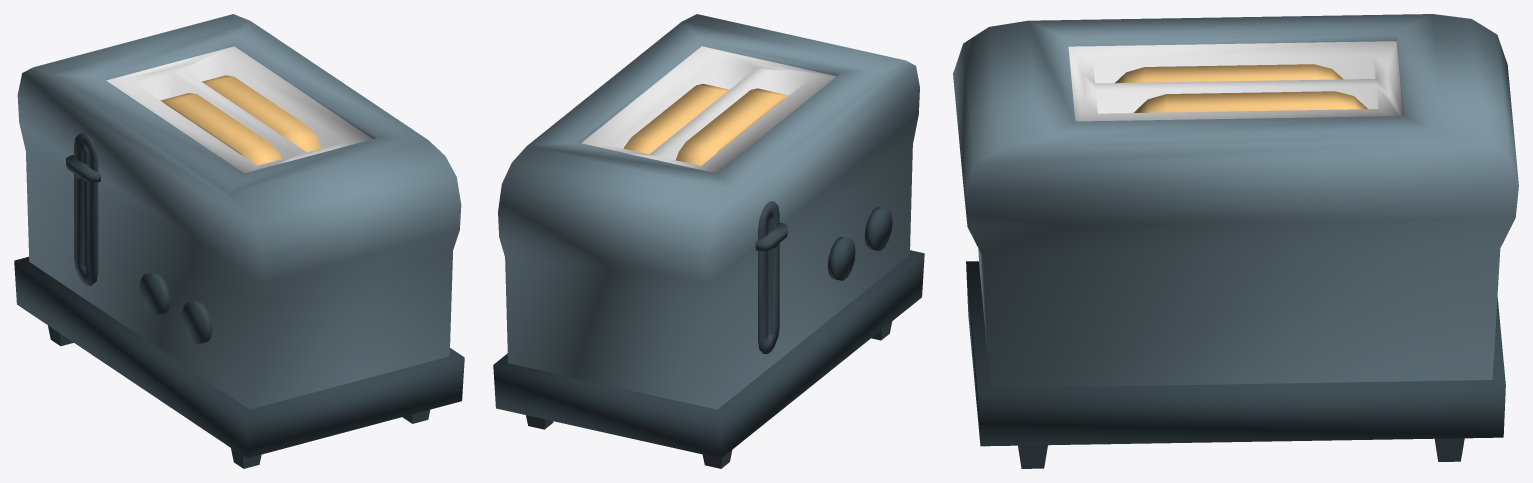
Rendered from Sandwich Maker.fbx.
The picture shows the model from 3 angles, left to right: view 1: azimuth 30°, elevation 25°; view 2: azimuth 150°, elevation 25°; view 3: azimuth 270°, elevation 25°; orthographic projection. The views are drawn at different scales.
Parts seen in each view (by area): view 1: Sandwich_Maker; view 2: Sandwich_Maker; view 3: Sandwich_Maker.
Part boxes in pixels (<box>): Sandwich_Maker: <box>14,14,464,468</box>; Sandwich_Maker: <box>493,14,924,468</box>; Sandwich_Maker: <box>953,14,1518,468</box>.
Bounding box in the file's own units: 46.04 × 50.26 × 77.8.
